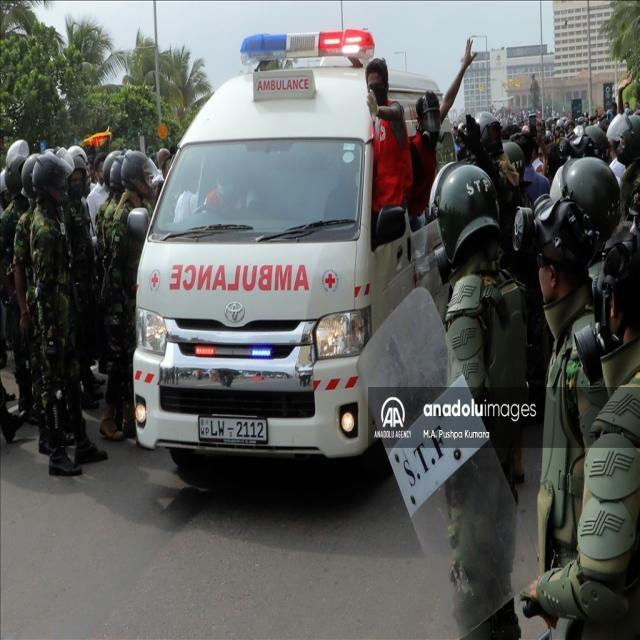emergency-vehicle: (120, 17, 427, 497)
